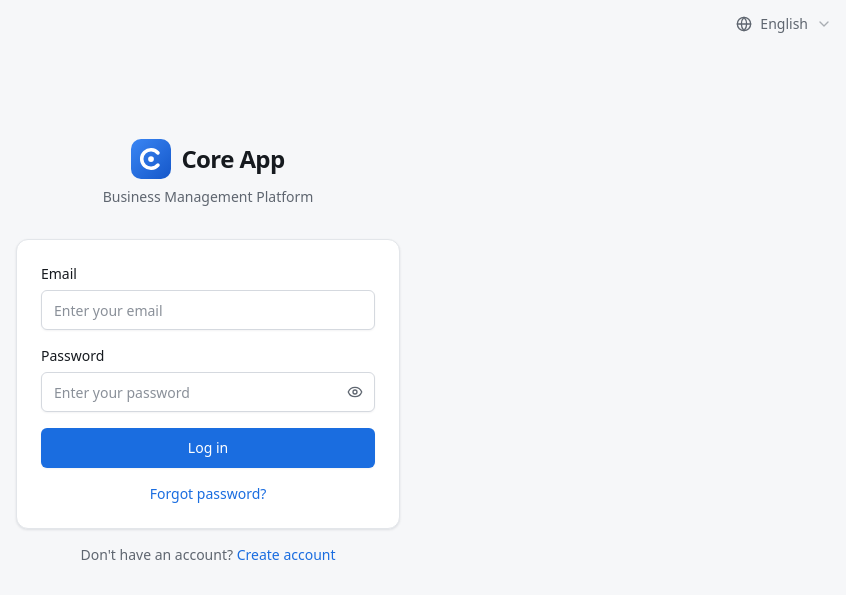
Test case: login › shows an error for wrong credentials and stays on the login page
In the field labelled "Email": (208, 310) [41,290,375,330], type "owner@example.com"
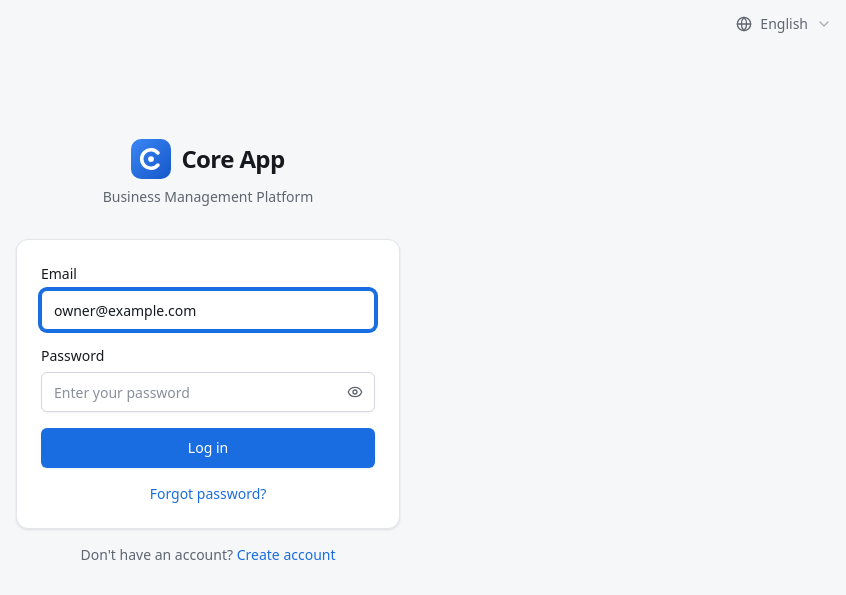
In the password field labelled "Password": (208, 392) [41,372,375,412], type "wrong-password"
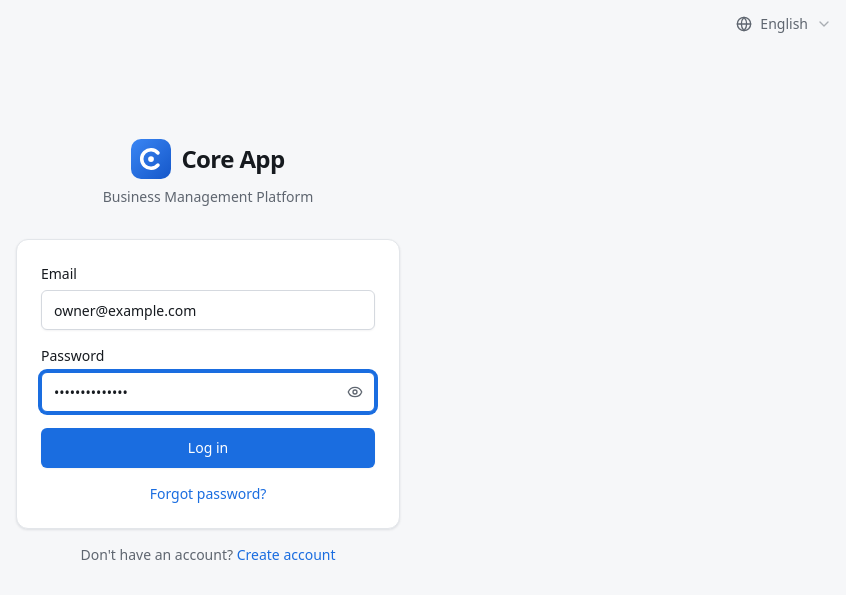
Click the button "Log in": (208, 448) [41,428,375,468]
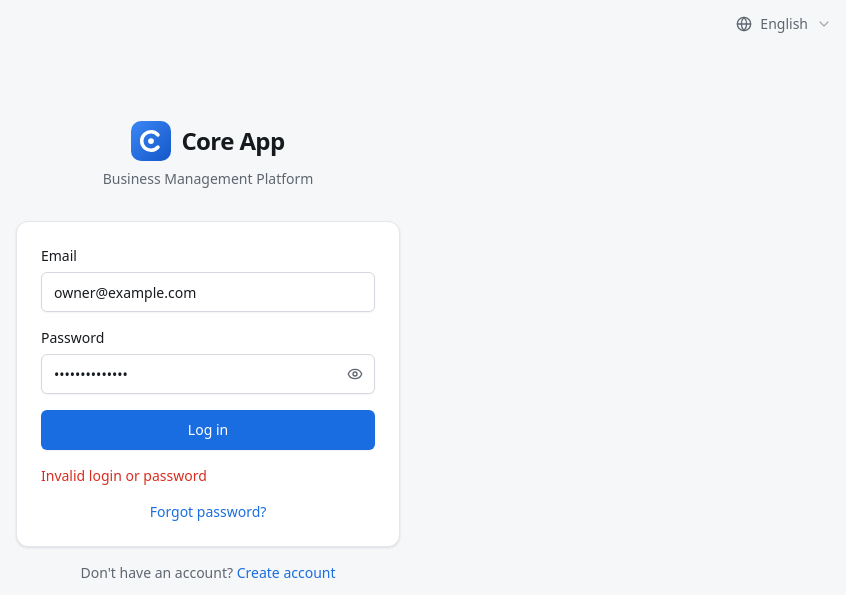
Check: the text "Invalid login or password" is shown, box [41,466,207,485]
